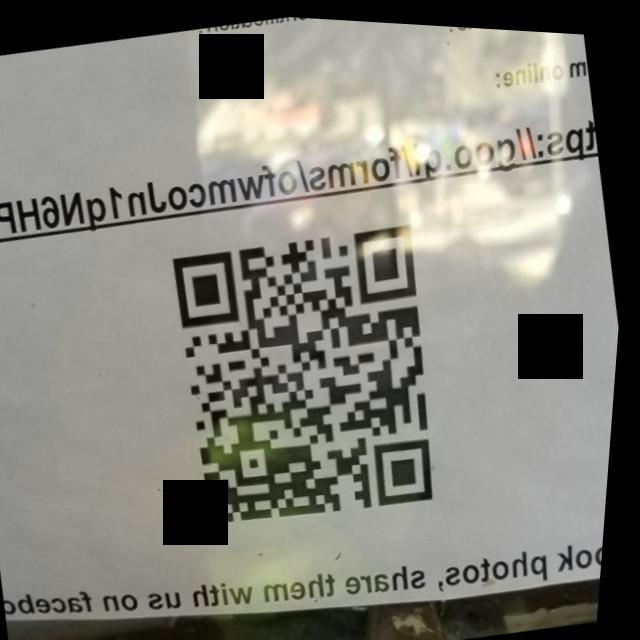QR_CODE: (142, 176, 485, 573)
